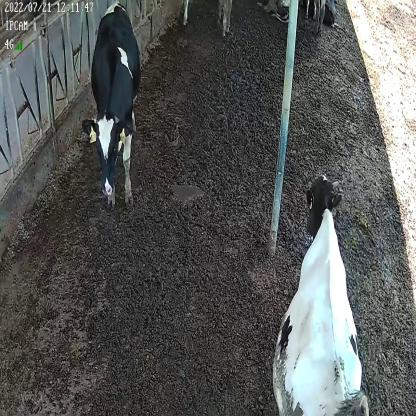cow: (271, 172, 368, 416), (81, 6, 144, 206)
